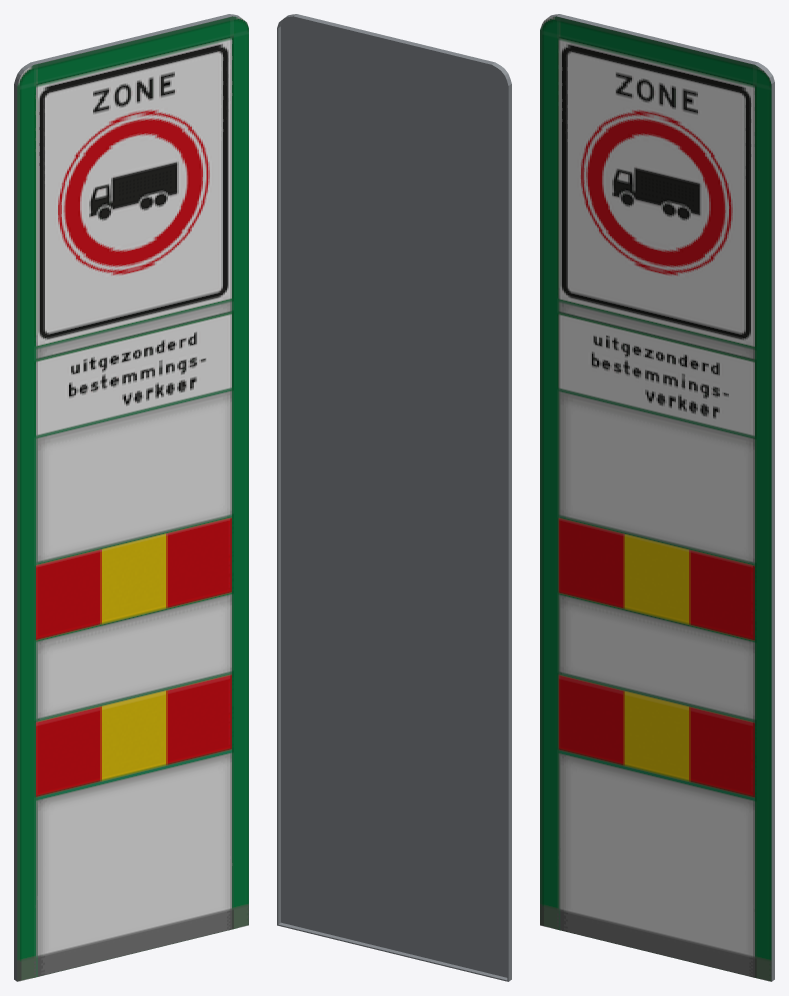
3 views of the same model, side by side, from view 1: azimuth 30°, elevation 25°; view 2: azimuth 150°, elevation 25°; view 3: azimuth 330°, elevation 25° (orthographic).
Parts seen in each view (by area): view 1: cat_98f89a400ae3c68e; view 2: cat_98f89a400ae3c68e; view 3: cat_98f89a400ae3c68e.
Part boxes in pixels (left/top/right/bottom): cat_98f89a400ae3c68e: left=14, top=14, right=248, bottom=981; cat_98f89a400ae3c68e: left=277, top=14, right=511, bottom=981; cat_98f89a400ae3c68e: left=540, top=14, right=774, bottom=981.
Bounding box in the file's own units: 0.6 × 0.015 × 2.26.
2 materials, 1 textured.
